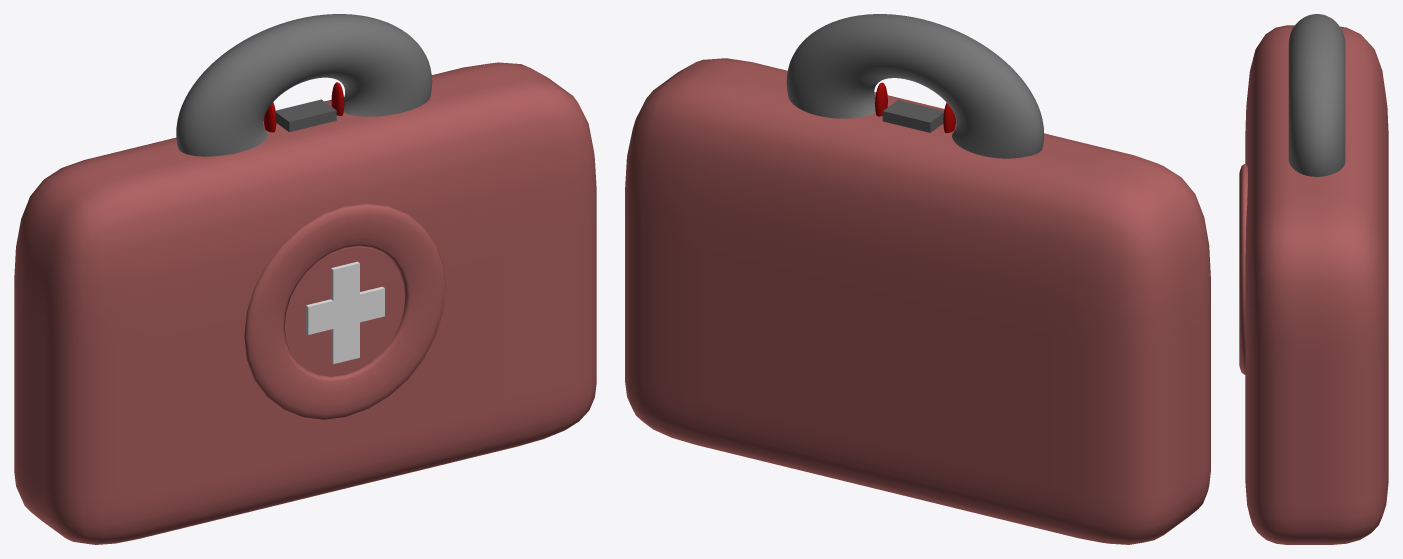
File: Botiquin.fbx
The picture shows the model from 3 angles, left to right: view 1: azimuth 30°, elevation 25°; view 2: azimuth 150°, elevation 25°; view 3: azimuth 270°, elevation 25°; orthographic projection. The views are drawn at different scales.
Visible parts, largest first — view 1: pCube7, pTorus1, pCube6, pCube2; view 2: pCube7, pTorus1, pCube2; view 3: pCube7, pTorus1.
Part boxes in pixels (left/top/right/bottom): pCube7: left=14, top=62, right=596, bottom=544; pTorus1: left=176, top=14, right=432, bottom=156; pCube6: left=306, top=261, right=384, bottom=364; pCube2: left=275, top=99, right=336, bottom=132; pCube7: left=625, top=58, right=1210, bottom=544; pTorus1: left=786, top=14, right=1043, bottom=158; pCube2: left=882, top=100, right=943, bottom=132; pCube7: left=1239, top=25, right=1388, bottom=544; pTorus1: left=1288, top=14, right=1345, bottom=176.
Bounding box in the file's own units: 3.95 × 3.16 × 1.04.
